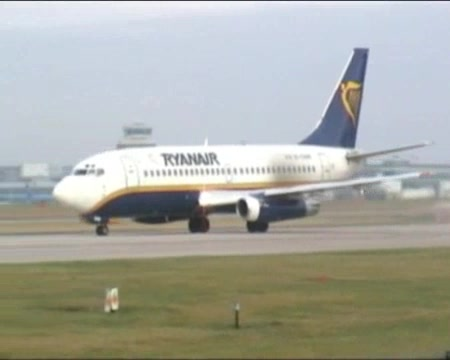aeroplane: (52, 47, 437, 240)
